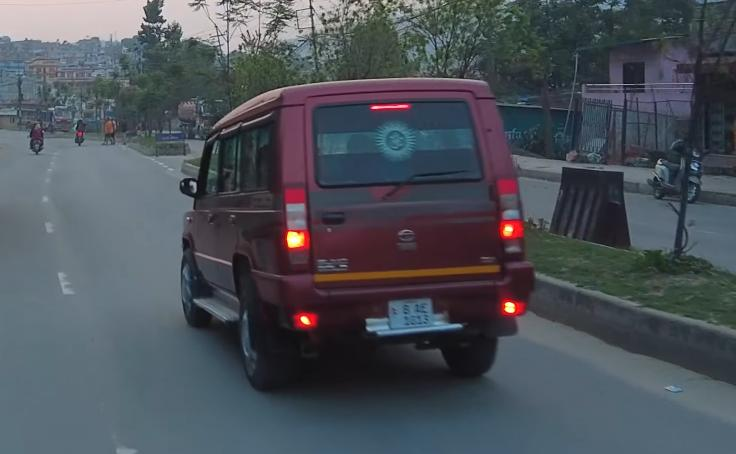SUV: (163, 71, 547, 391)
